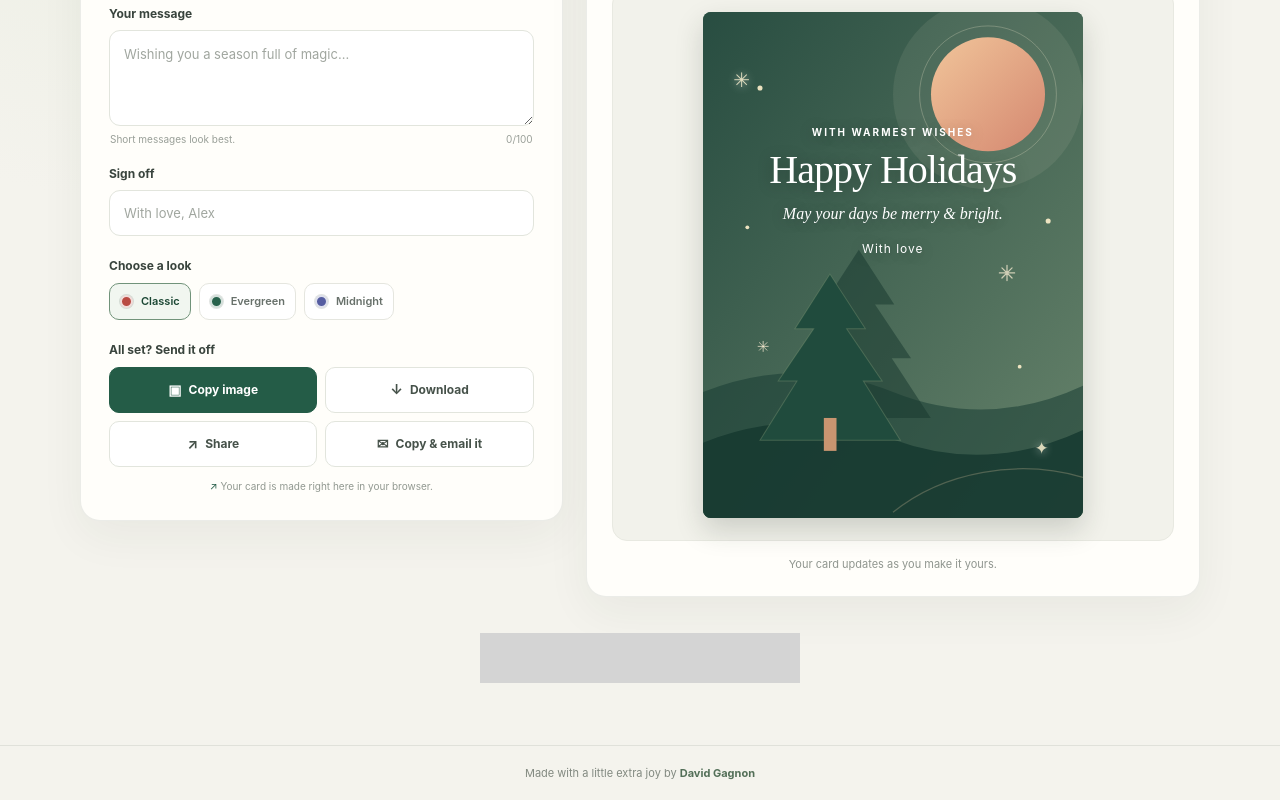
Scenario: share explains the fallback when the browser cannot share images
(page scrolled)
Click the button "↗ Share": point(213, 444) [109, 421, 317, 467]
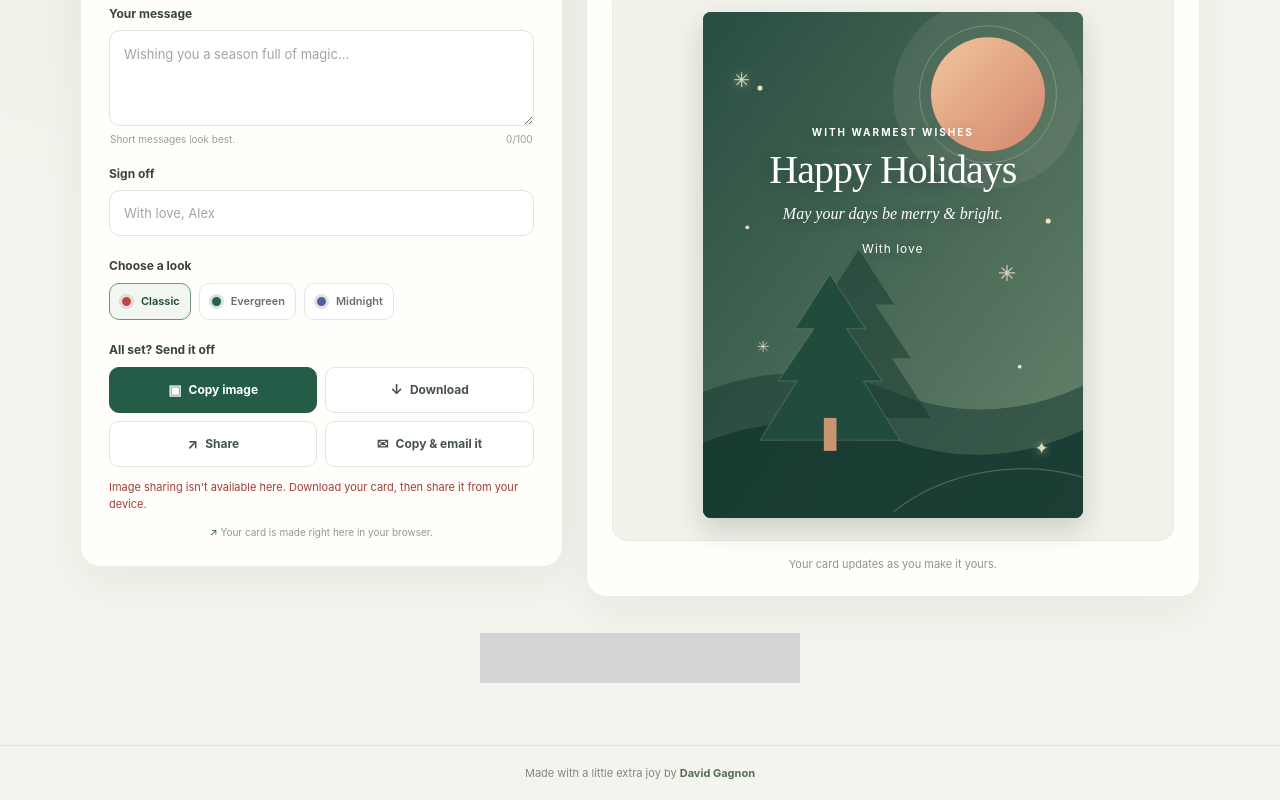
Check: the message shows "Image sharing isn't available here.", box [109, 480, 518, 511]
